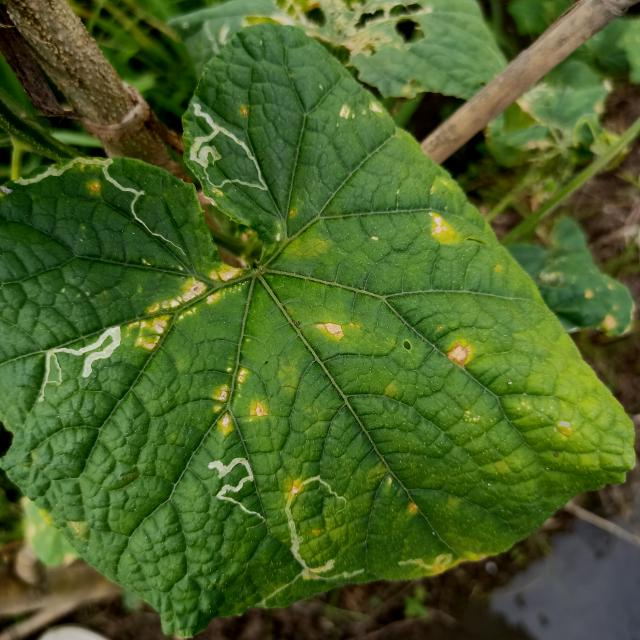disease_cucumber: (123, 261, 244, 353), (212, 363, 270, 439), (335, 100, 388, 126), (428, 210, 462, 249), (316, 320, 344, 345), (446, 342, 471, 365), (85, 181, 102, 195)
